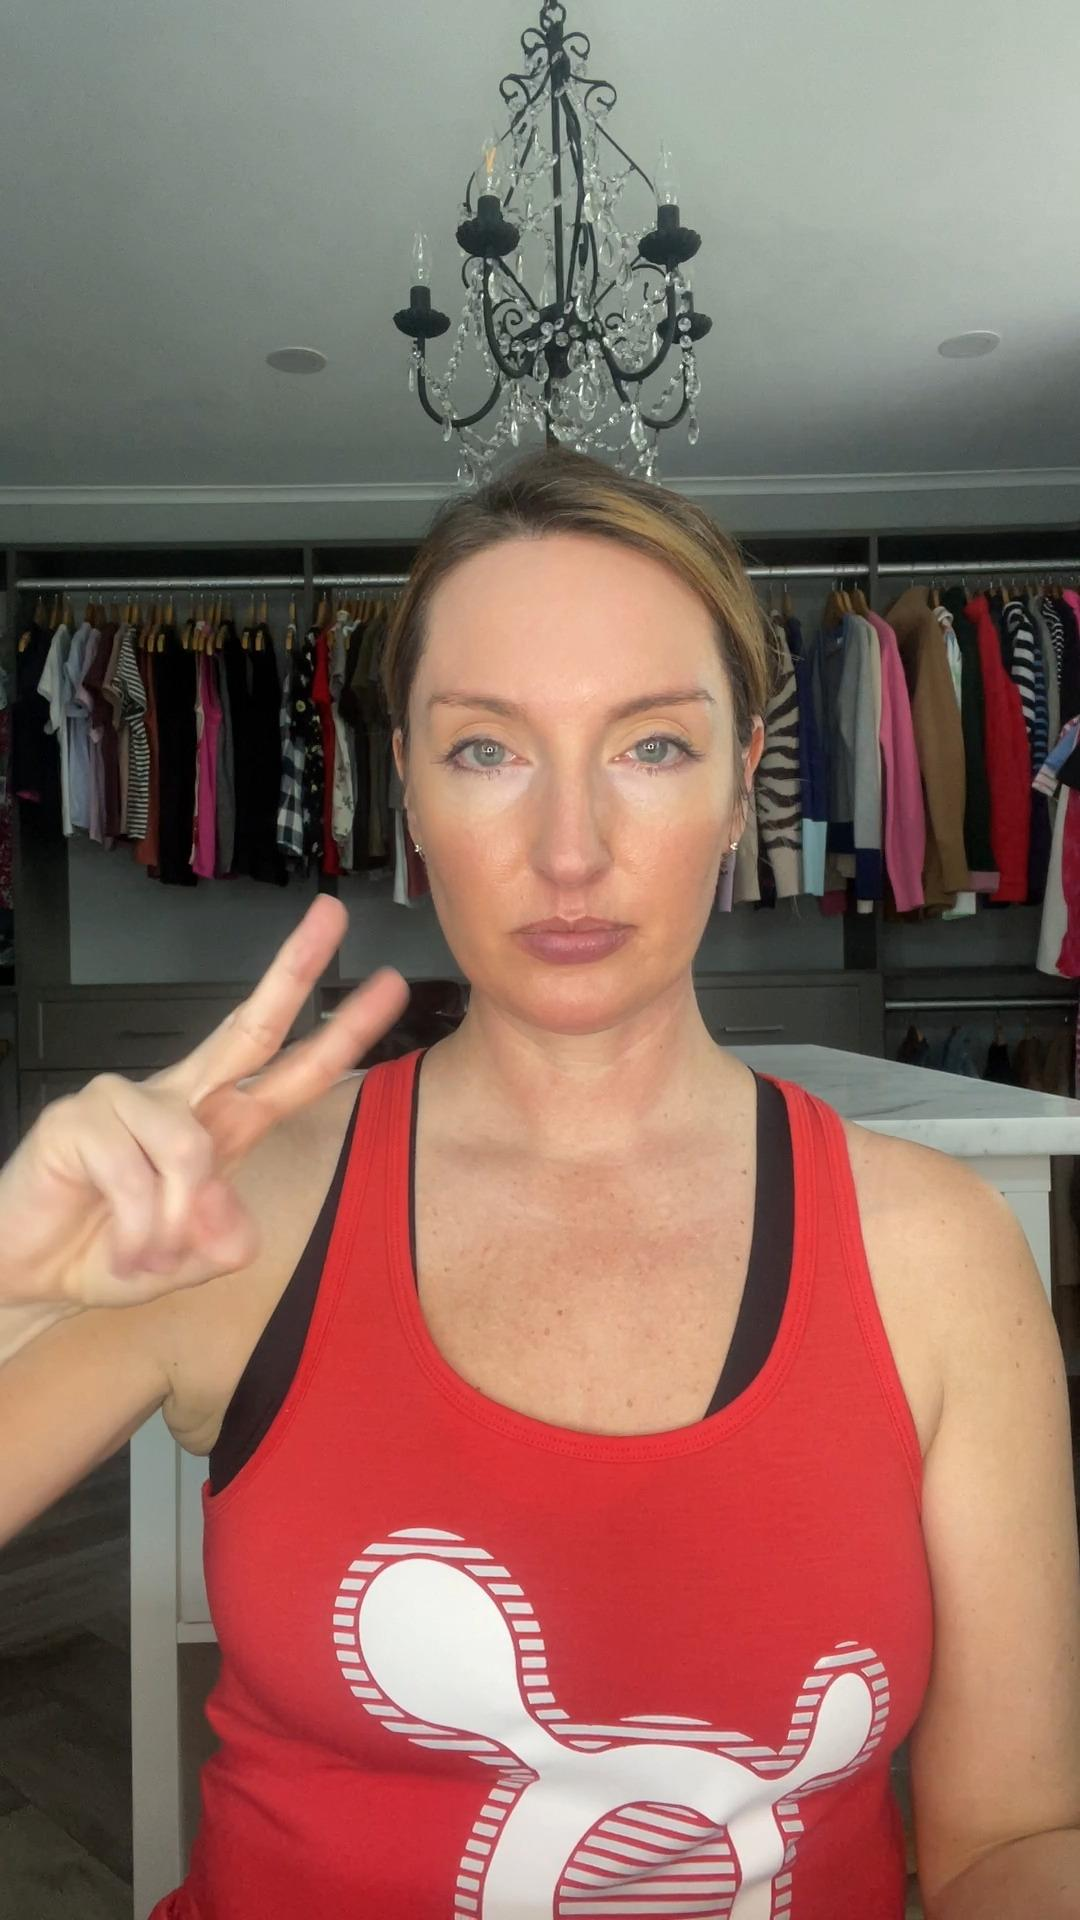Scissors: (0, 897, 411, 1300)
